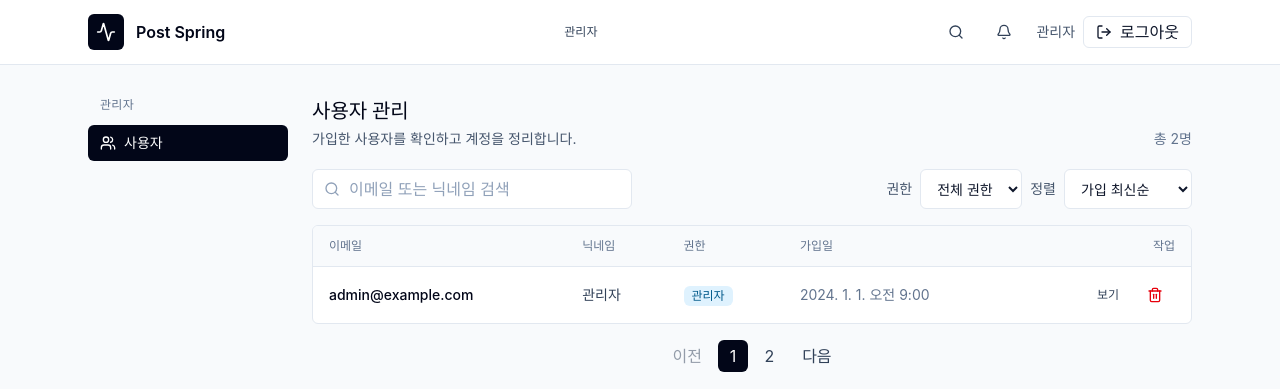
AdminUsersPage › navigates between pages
Check: the link "admin@example.com" is shown, box [329,286,474,303]
Step 1. Click the button "다음" → {"x": 817, "y": 356}, box [790,340,844,372]
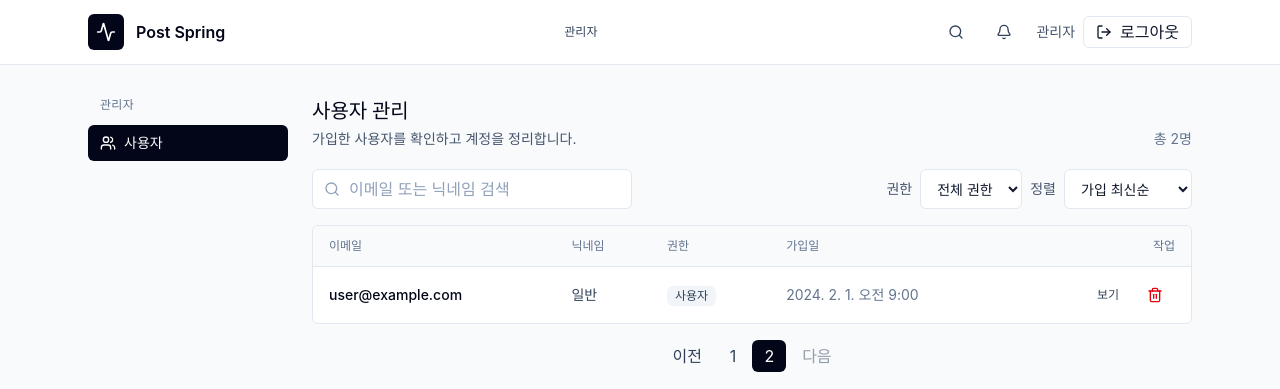
Check: the link "user@example.com" is shown, box [329,286,462,303]
Check: the link "admin@example.com" is gone
